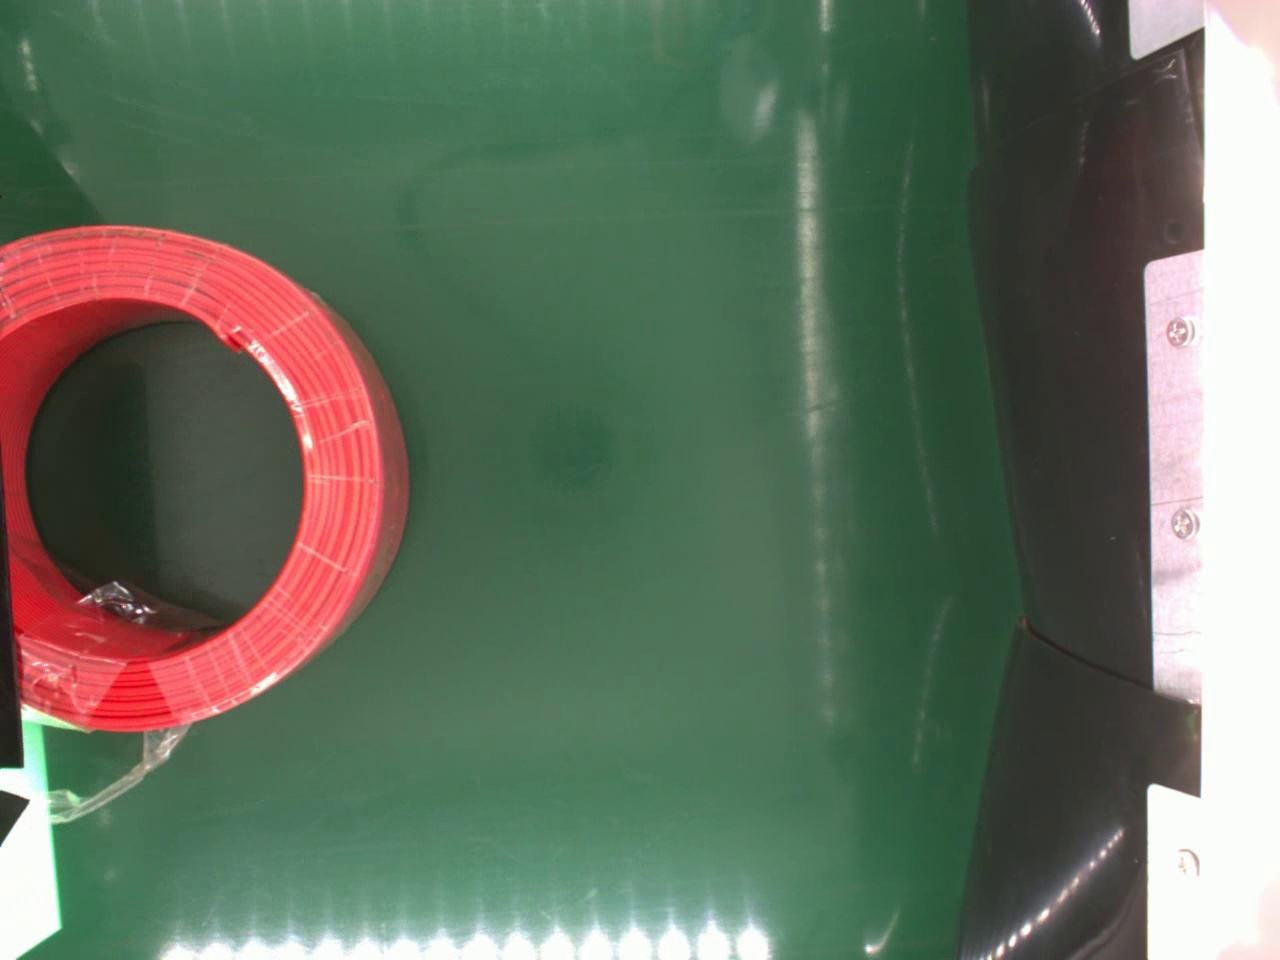red: (0, 223, 412, 733)
